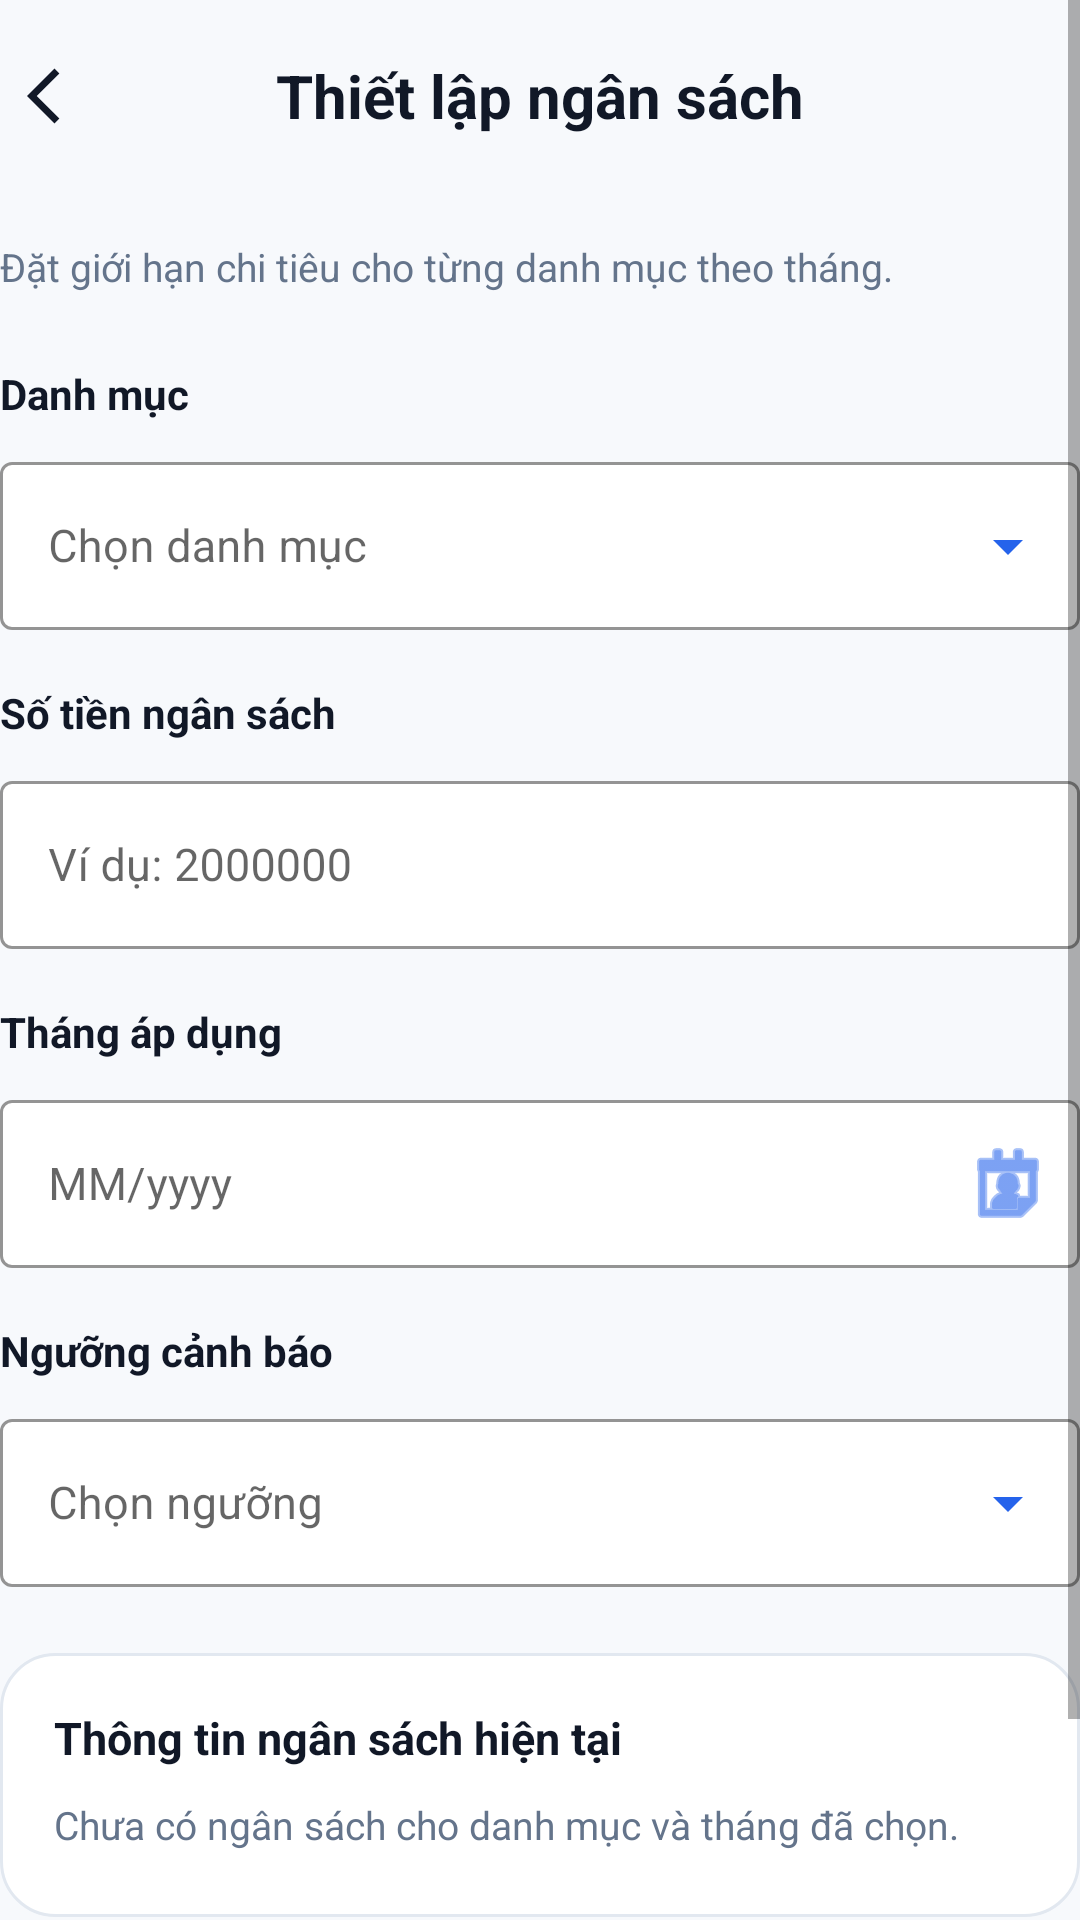

Icon click points for this 1080px x 1920px phone screenshot, format point (x, y):
Quay lại: point (43, 96)
